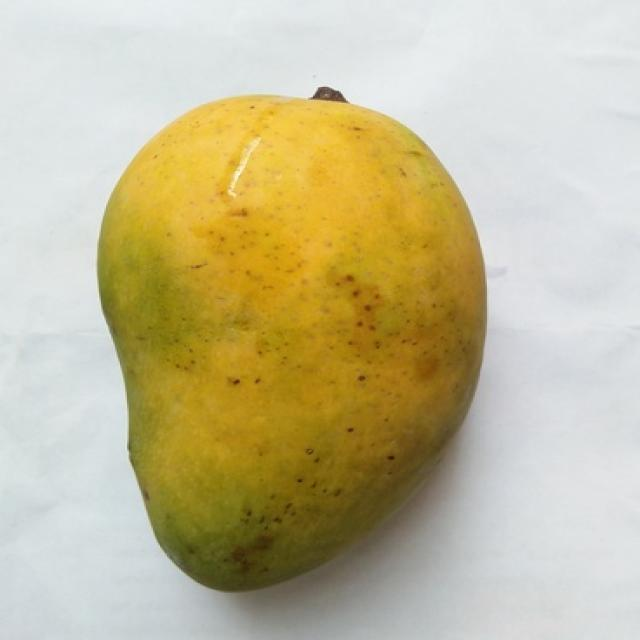Mango: (101, 93, 485, 590)
